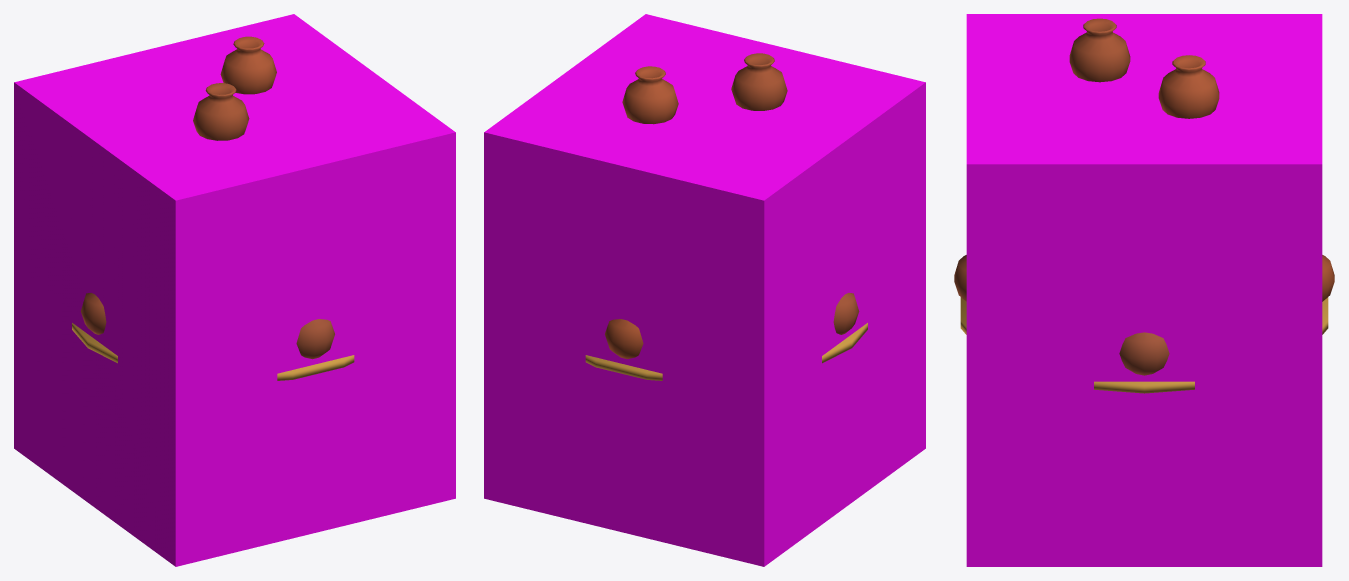
Rendered from PRP_Lamp_Stand_A.glb.
3 renders of one model, left to right at view 1: azimuth 30°, elevation 25°; view 2: azimuth 150°, elevation 25°; view 3: azimuth 270°, elevation 25°, orthographic. The views are drawn at different scales.
Visible parts, largest first — view 1: COL_Stand, PRP_Lamp_Stand_A_Mesh; view 2: COL_Stand, PRP_Lamp_Stand_A_Mesh; view 3: COL_Stand, PRP_Lamp_Stand_A_Mesh.
Part boxes in pixels (box(x1,y1,x2,y2)): COL_Stand: box(14, 14, 455, 566); PRP_Lamp_Stand_A_Mesh: box(72, 36, 354, 380); COL_Stand: box(484, 14, 925, 566); PRP_Lamp_Stand_A_Mesh: box(585, 53, 867, 380); COL_Stand: box(966, 14, 1322, 566); PRP_Lamp_Stand_A_Mesh: box(954, 18, 1334, 393).
Bounding box in the file's own units: 0.86 × 1.11 × 0.8565.
